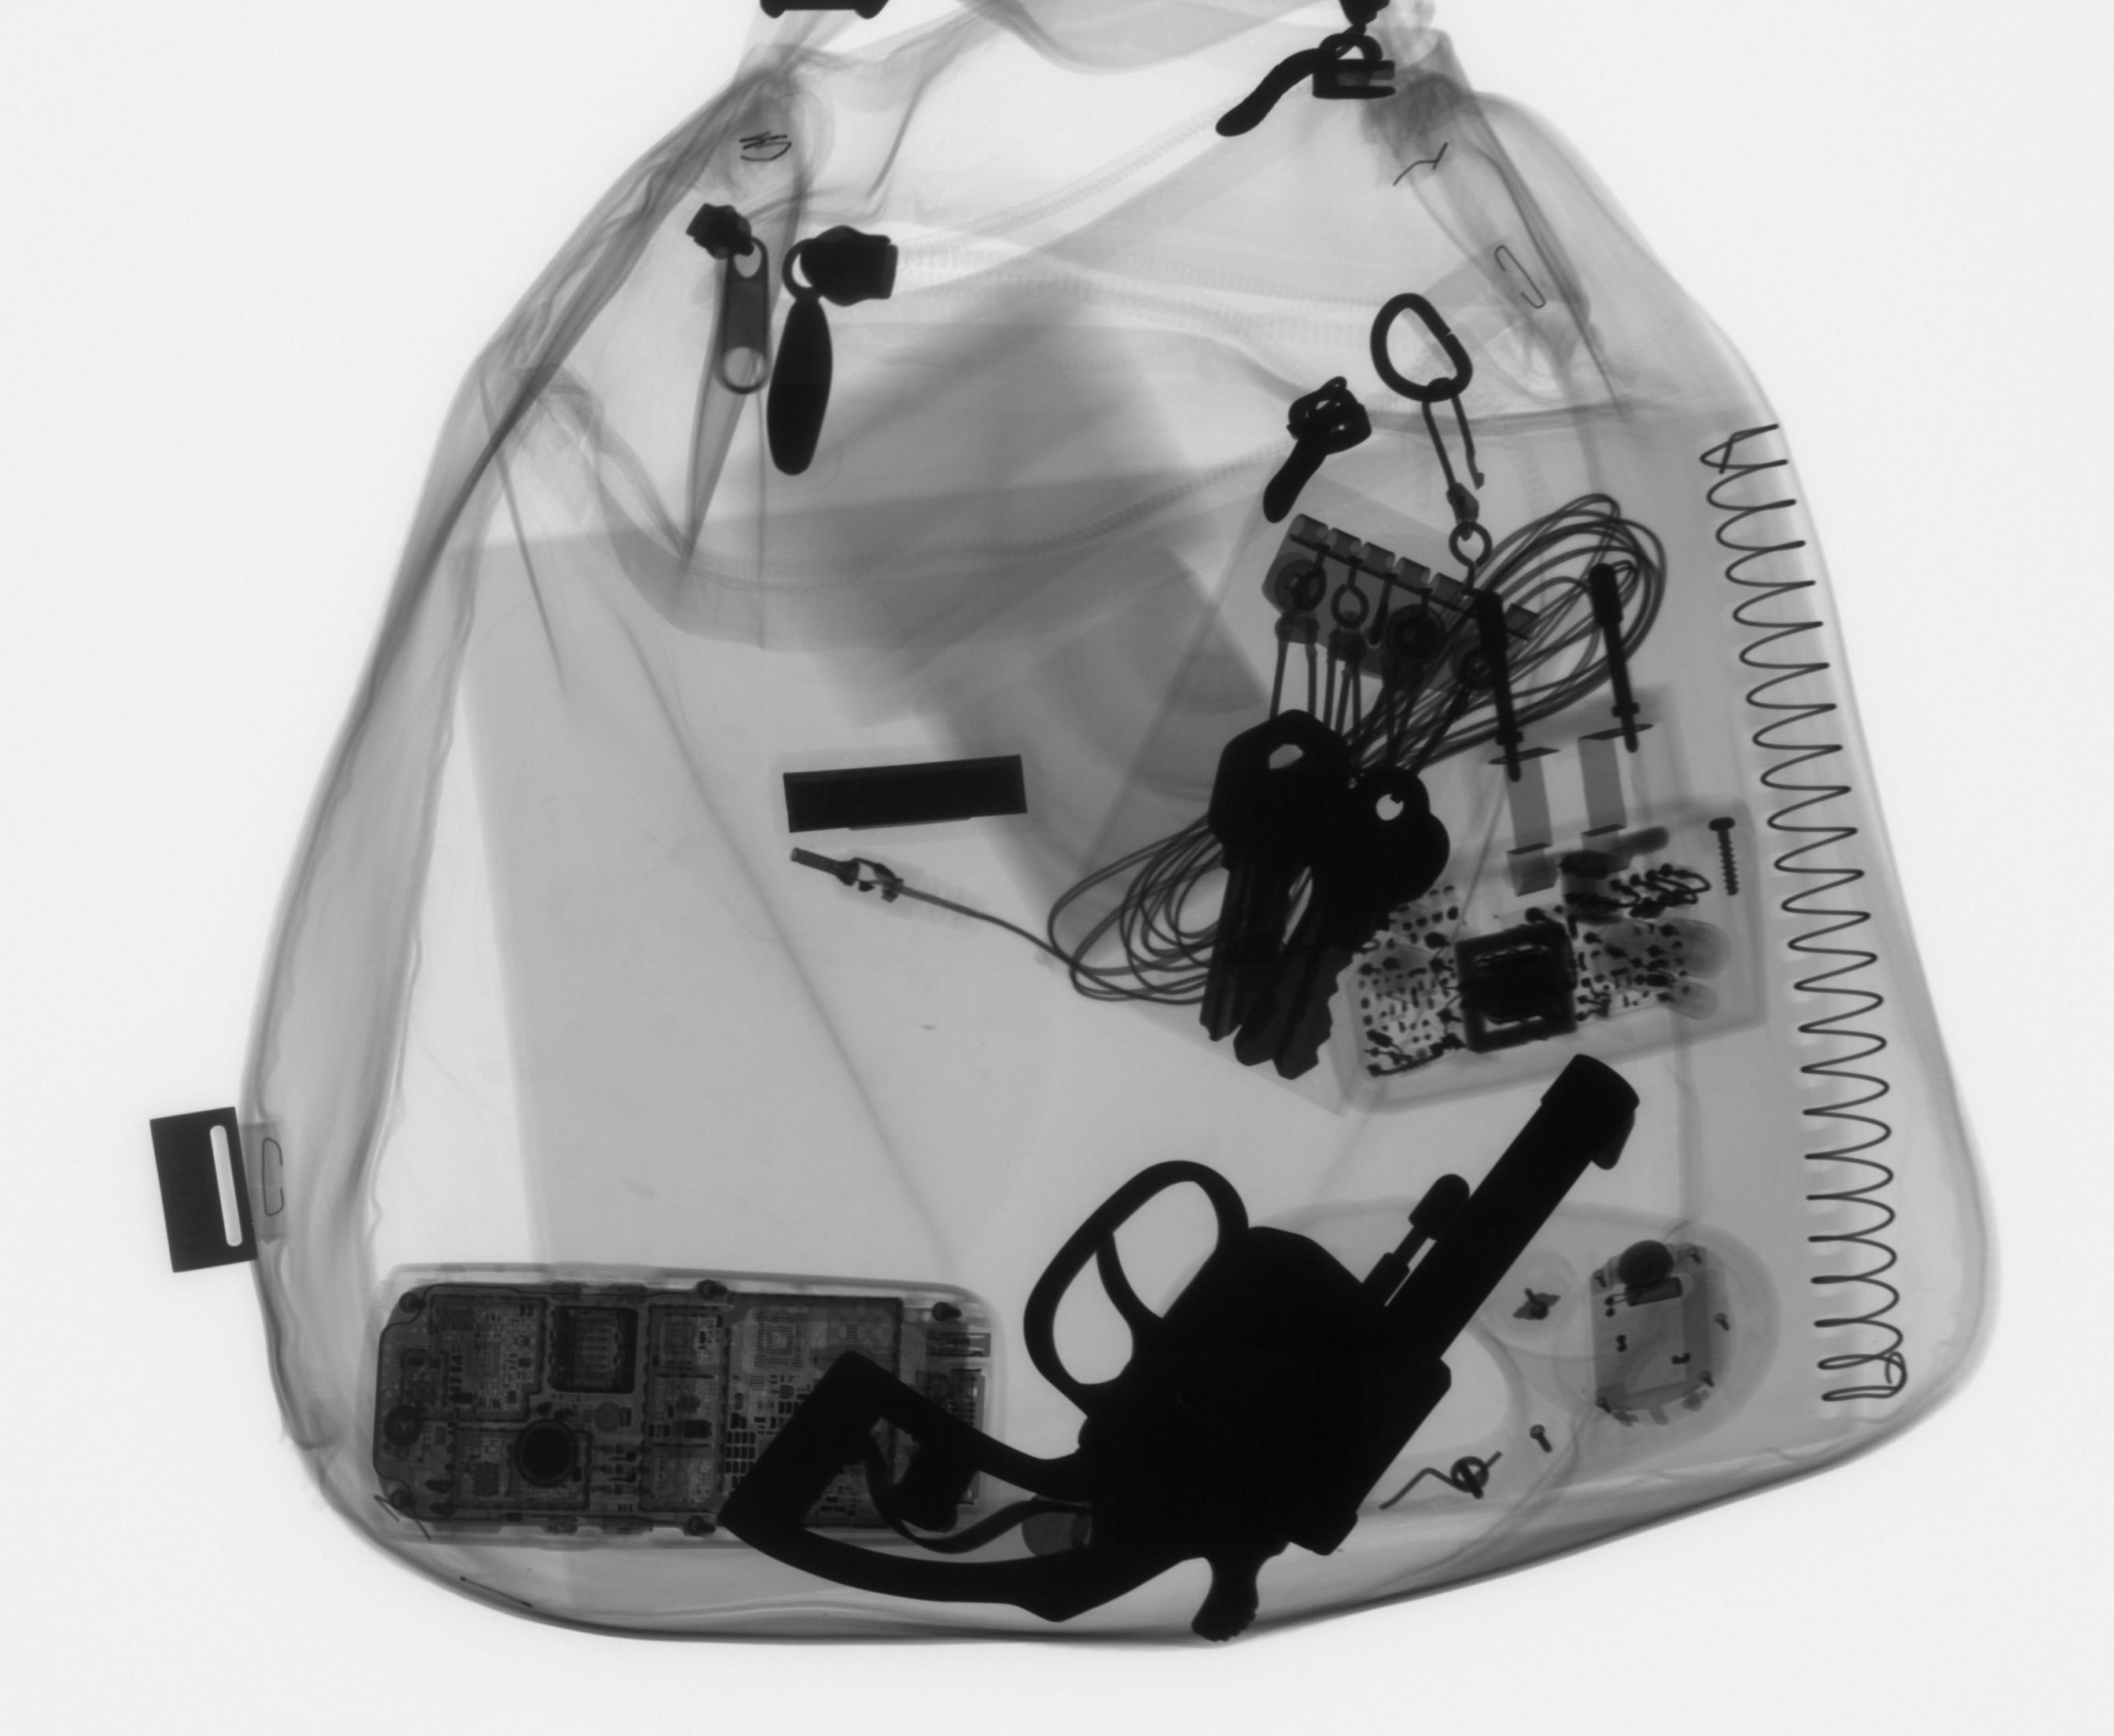Handgun: (704, 1043, 1648, 1650)
